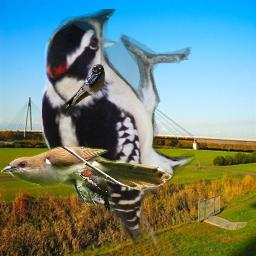Cuckoo: (1, 146, 173, 206)
Swallow: (62, 64, 105, 119)
Woodpecker: (42, 9, 195, 244), (73, 168, 114, 212)
